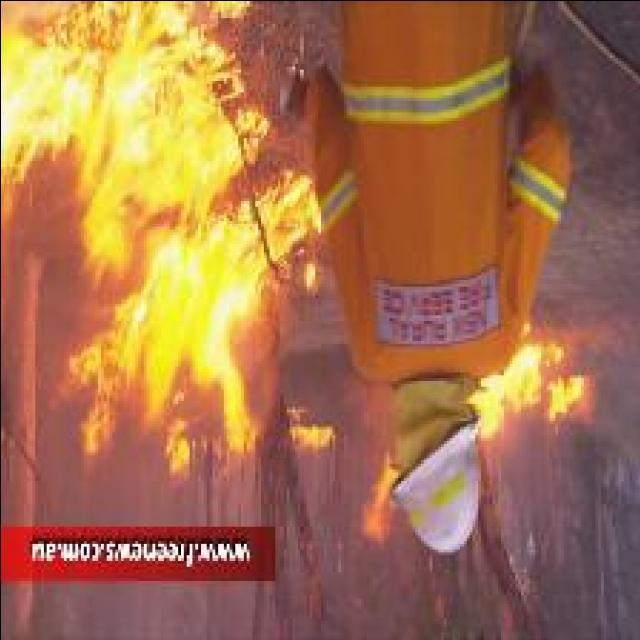Fire: (49, 176, 317, 484), (0, 4, 257, 296), (468, 343, 556, 443), (360, 457, 400, 543), (546, 374, 586, 420), (287, 428, 333, 456)
